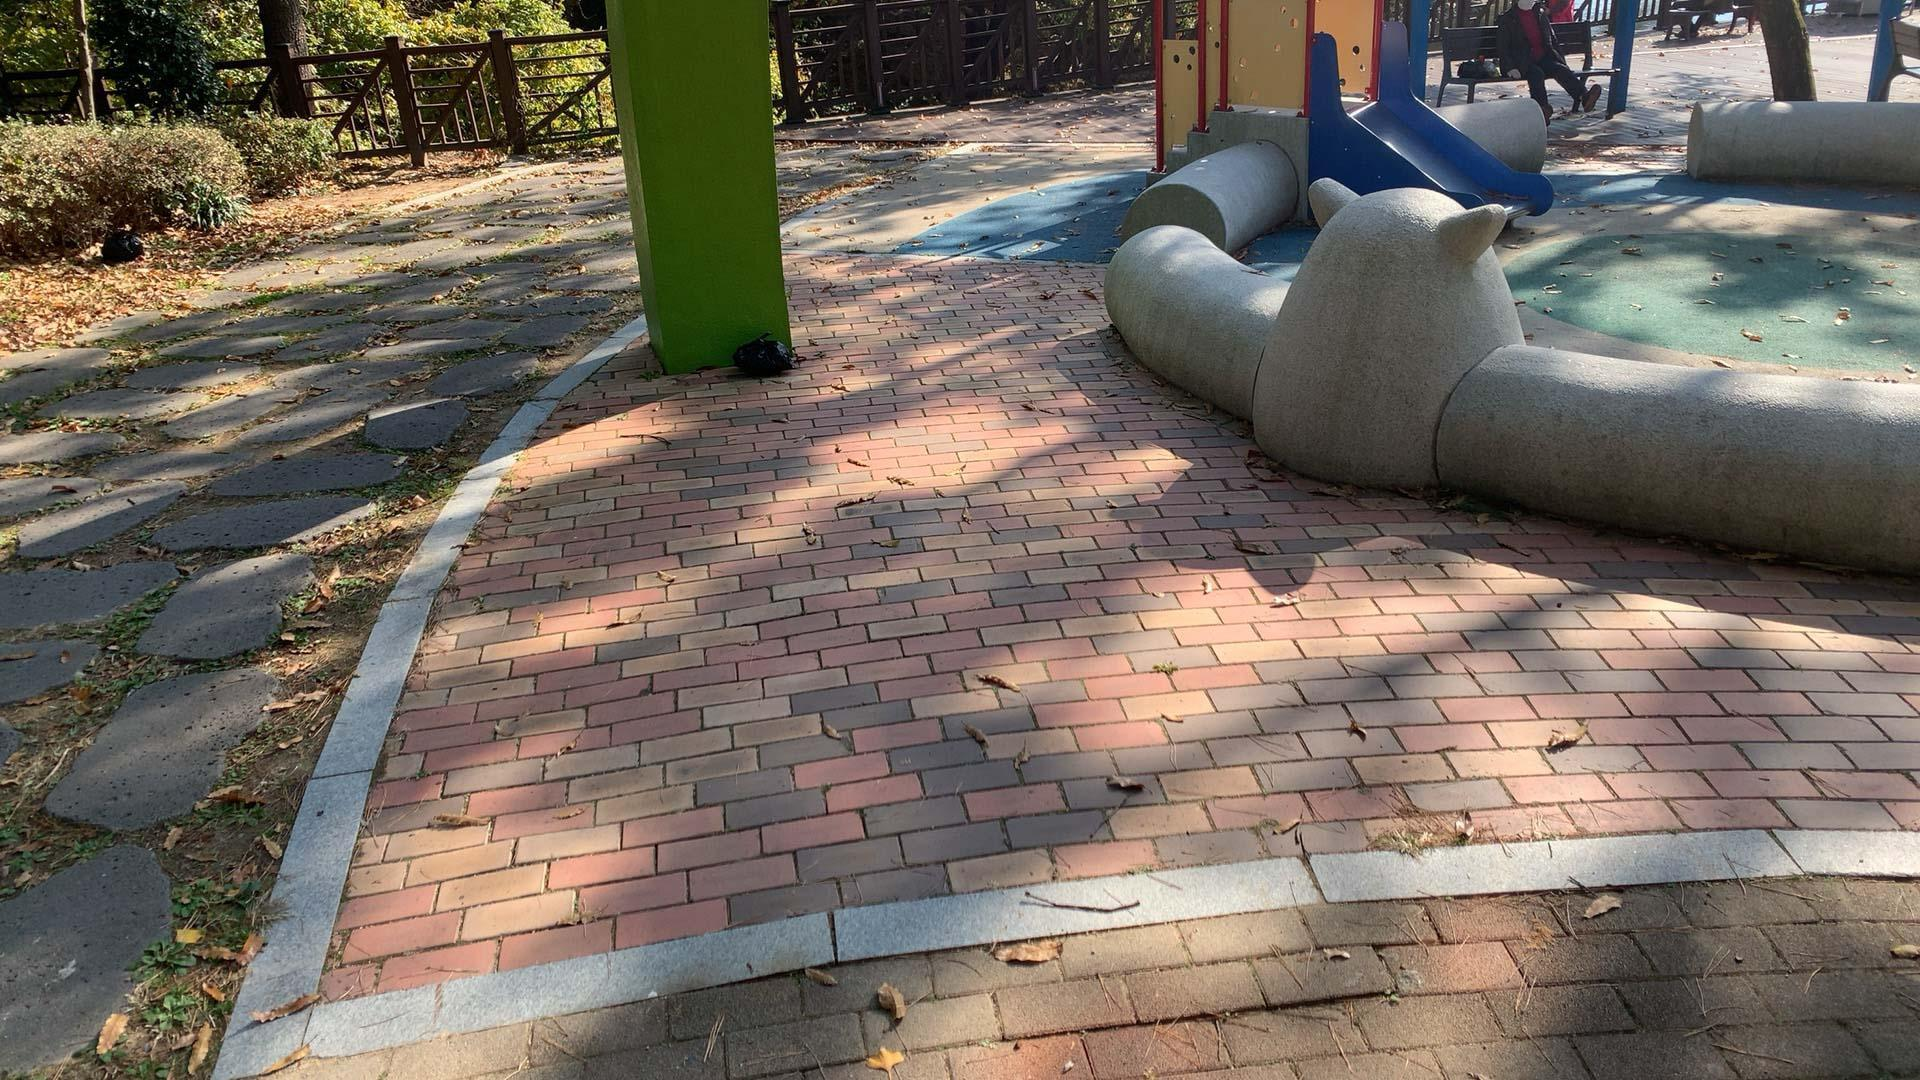white_bag: (729, 334, 796, 377)
